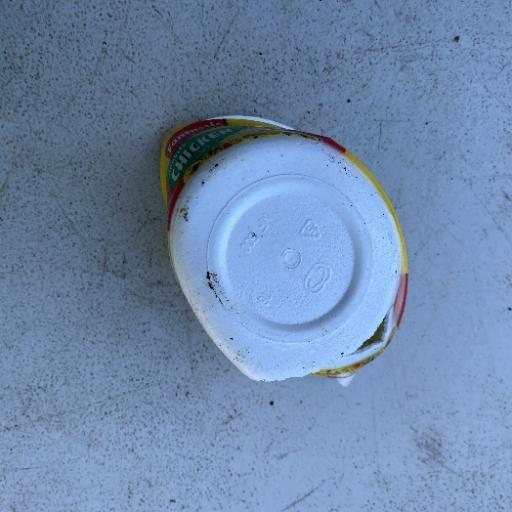Plastic: (156, 112, 412, 386)
